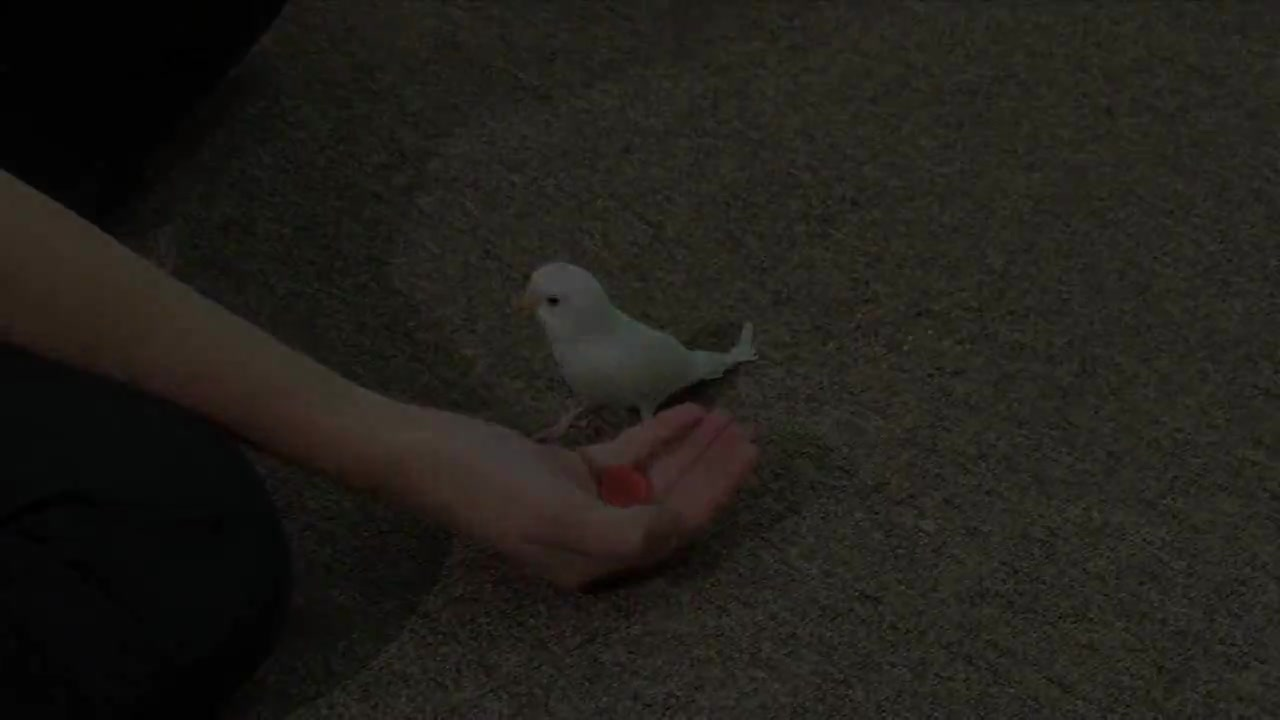bird: (519, 264, 760, 447)
